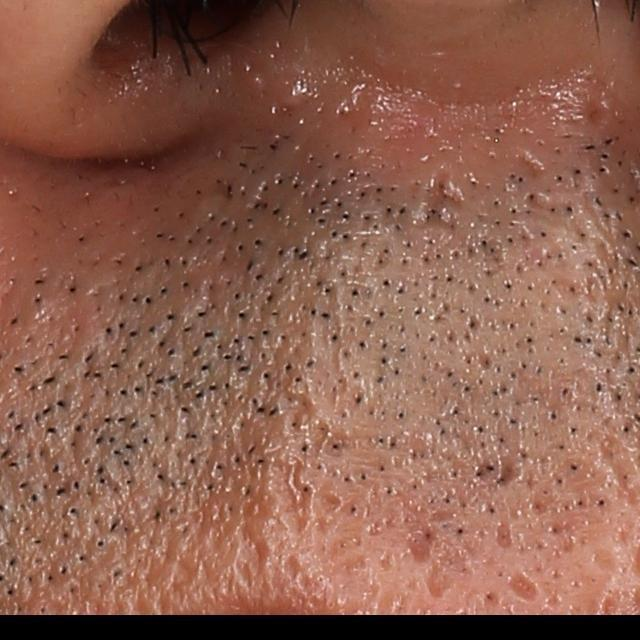atrophic_scar: (277, 448, 322, 532), (277, 390, 319, 453), (426, 175, 469, 223), (401, 526, 435, 555), (426, 563, 455, 597), (508, 569, 534, 602), (511, 152, 540, 181), (494, 516, 514, 551)
